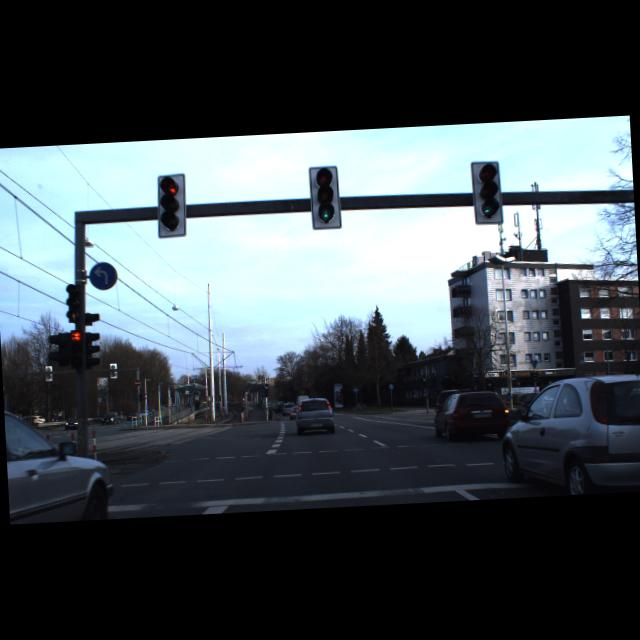mandatory: (89, 261, 118, 290)
